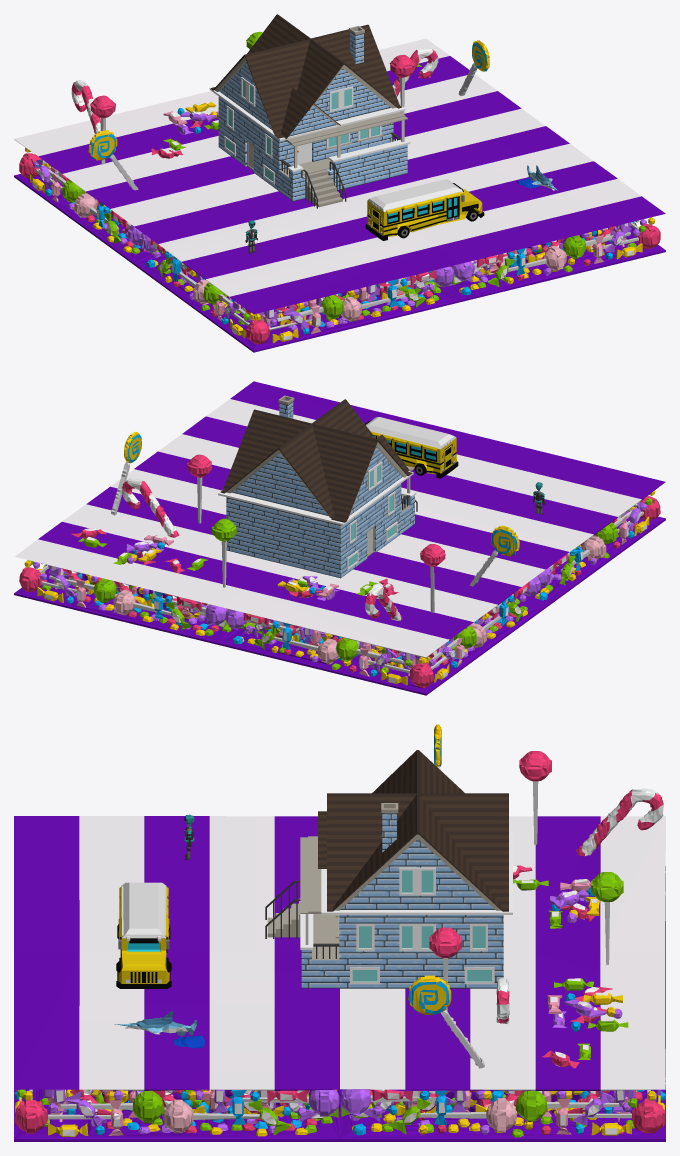
3 renders of one model, top to bottom at view 1: azimuth 30°, elevation 25°; view 2: azimuth 150°, elevation 25°; view 3: azimuth 270°, elevation 25°, orthographic. The views are drawn at different scales.
Visible parts, largest first — view 1: TERRAIN_CANDY, Cube.547, VEHICLES_SCHOOL_BUS; view 2: TERRAIN_CANDY, Cube.547, VEHICLES_SCHOOL_BUS; view 3: TERRAIN_CANDY, Cube.547, VEHICLES_SCHOOL_BUS, ANIMAL_PEZ_ESPADA.
Boxes of the visible parts, box(x1,y1,x2,y2) form: TERRAIN_CANDY: box(14, 31, 665, 352); Cube.547: box(209, 14, 410, 208); VEHICLES_SCHOOL_BUS: box(365, 179, 484, 240); TERRAIN_CANDY: box(14, 381, 665, 695); Cube.547: box(218, 395, 417, 578); VEHICLES_SCHOOL_BUS: box(365, 417, 458, 478); TERRAIN_CANDY: box(14, 724, 665, 1141); Cube.547: box(265, 750, 512, 988); VEHICLES_SCHOOL_BUS: box(116, 882, 171, 988); ANIMAL_PEZ_ESPADA: box(114, 1011, 204, 1048).
Bounding box in the file's own units: 4059 × 1600 × 4000.
33 materials, 3 textured.
